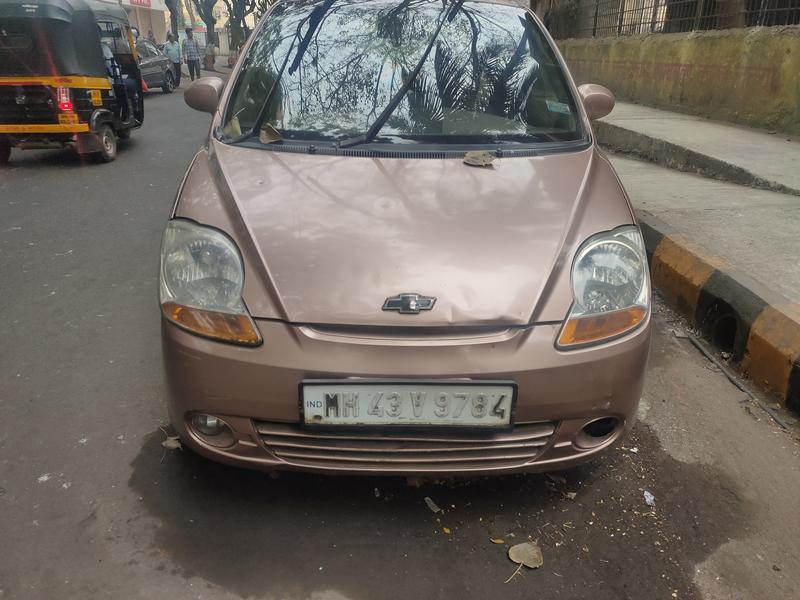license_plate: (291, 367, 529, 443)
